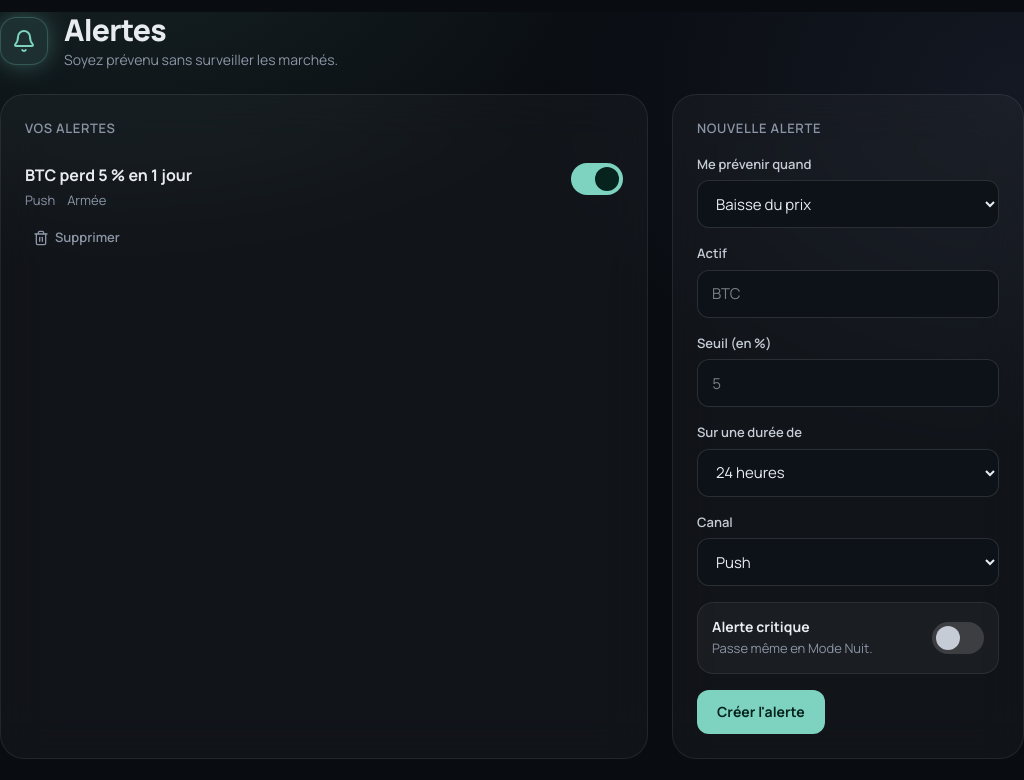
Test case: AlertsPage : activer, mettre en pause, supprimer › suppression : confirmation d'abord, « Garder » n'appelle rien
expect the heading "Vos alertes" is shown: met, box [25, 119, 116, 137]
What coordinates should you click on to do the following:
click the button with aria-label "Supprimer l'alerte : BTC perd 5 %"
I would click on:
 (76, 238)
Its box is [25, 218, 128, 258].
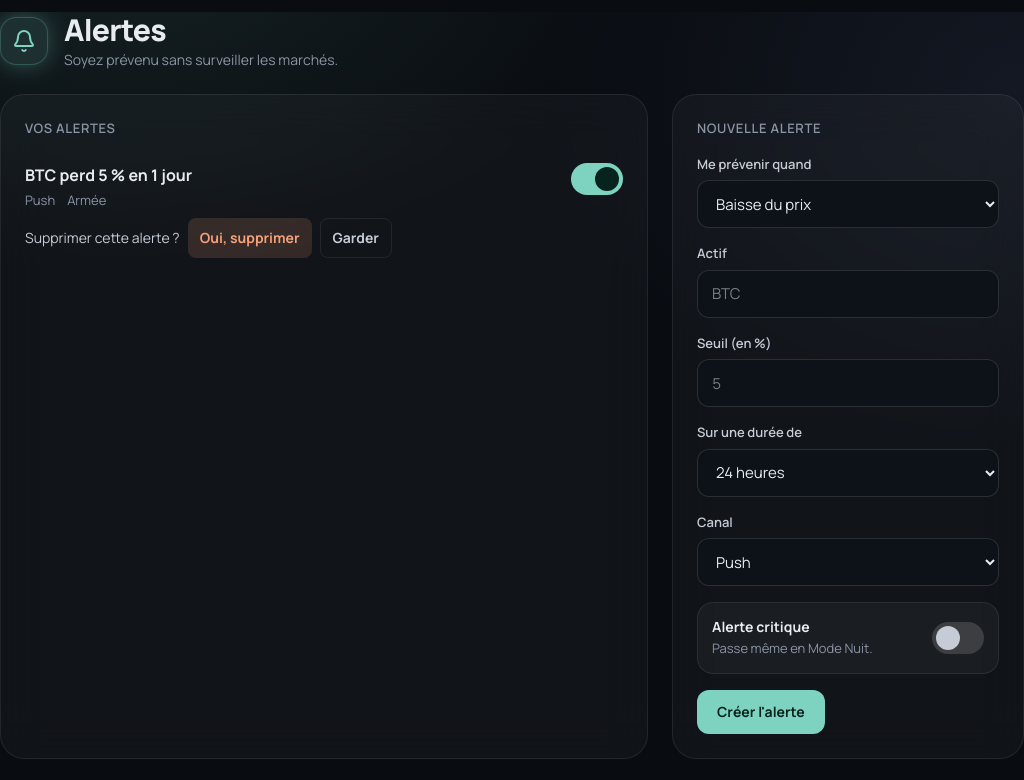
expect the text "Supprimer cette alerte ?" is shown: met, box [25, 228, 180, 248]
What coordinates should you click on to do the following:
click the button "Garder"
I would click on:
 (356, 238)
Its box is [320, 218, 392, 258].
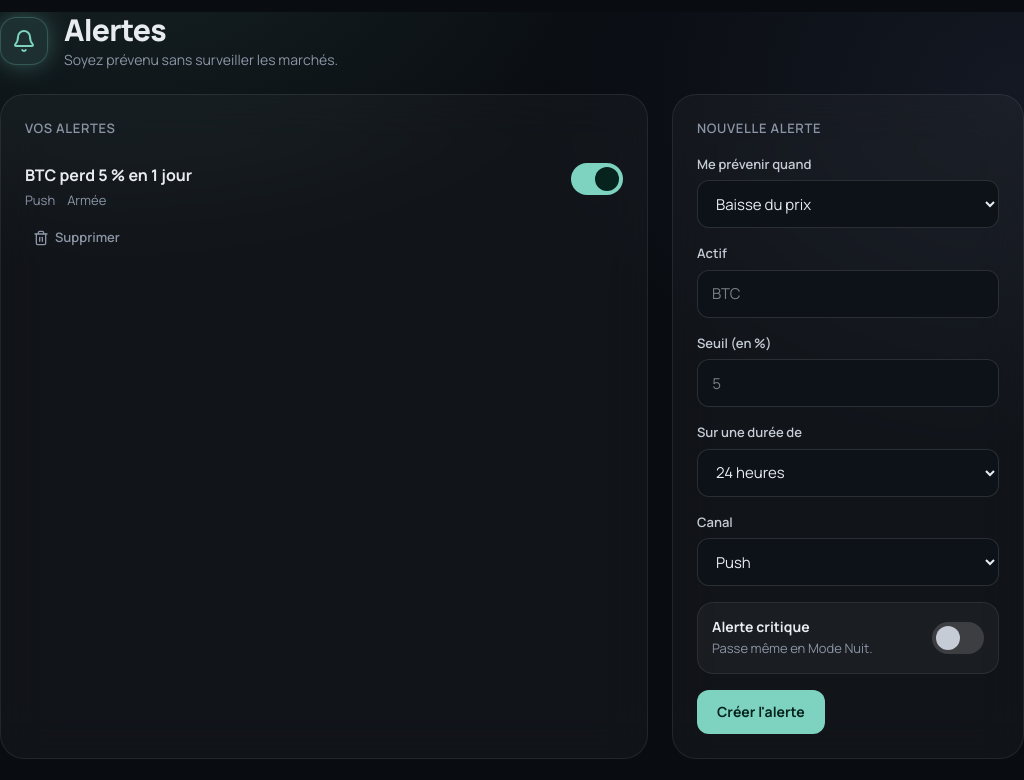
expect the number of list items is 1: met, box [25, 146, 623, 274]
expect the text "Supprimer cette alerte ?" is gone: met
